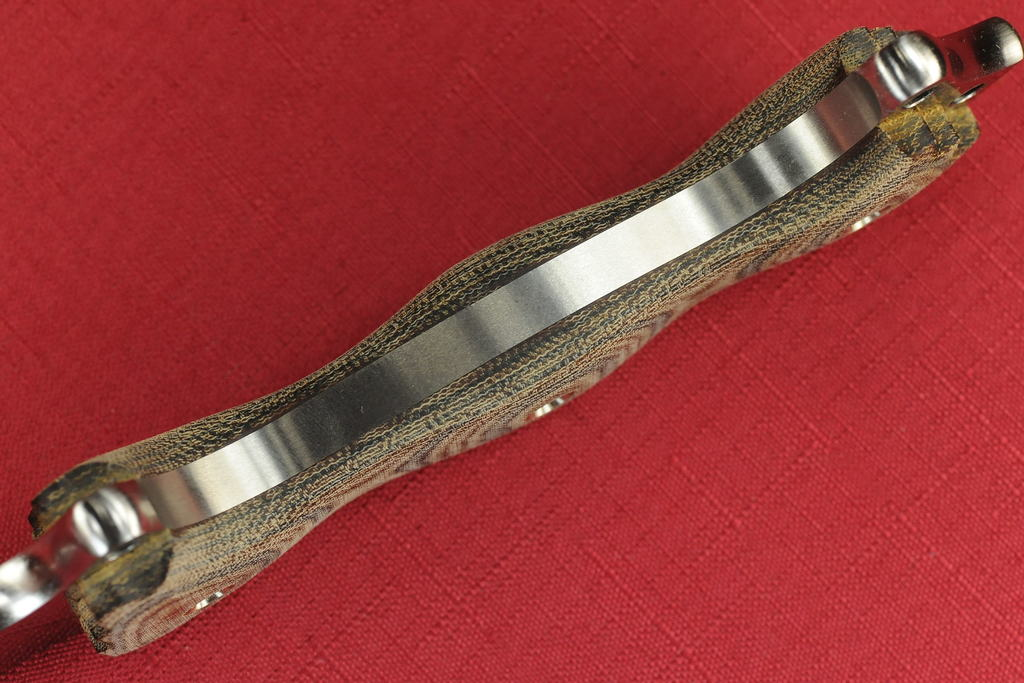person: (0, 553, 59, 626)
